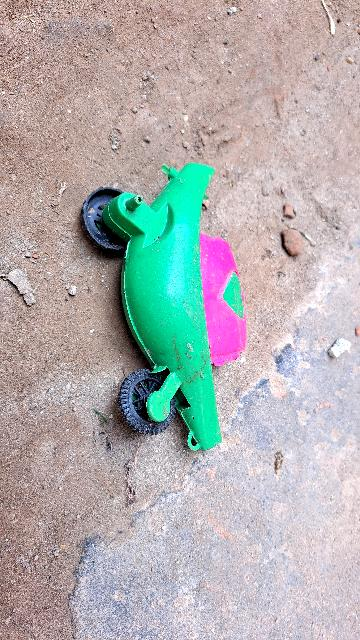hardplastic: (93, 157, 252, 462)
